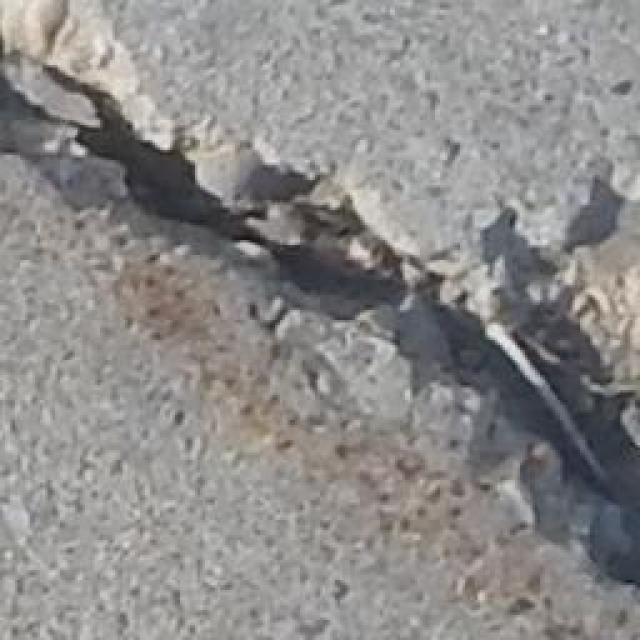concrete-crack: (0, 28, 639, 601)
